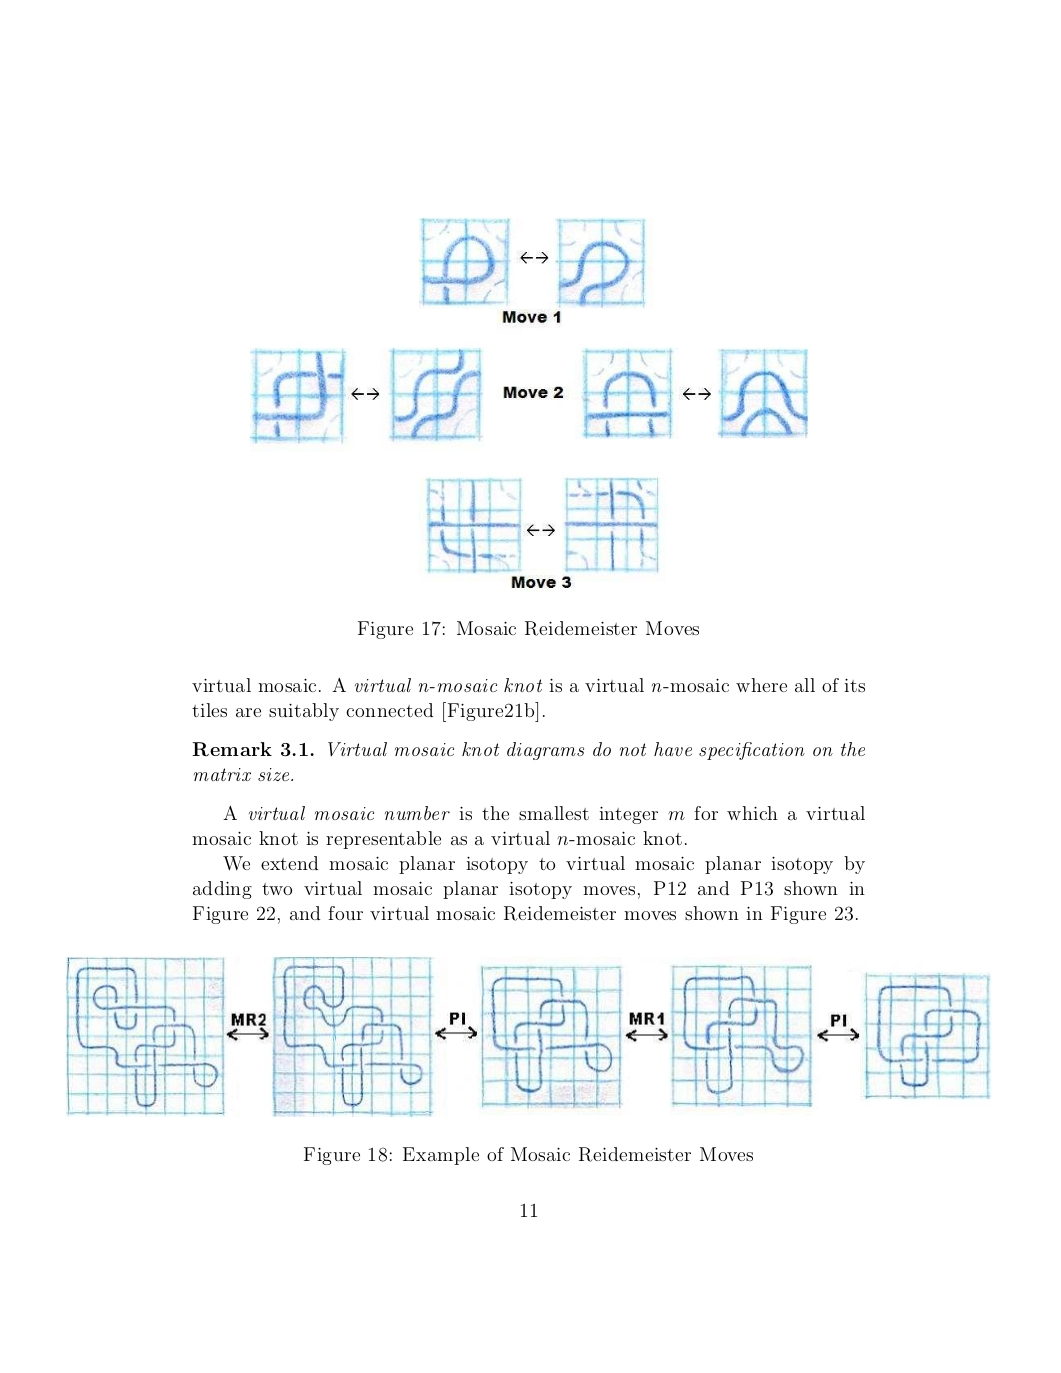figure: (250, 218, 807, 587), (66, 955, 989, 1117)
